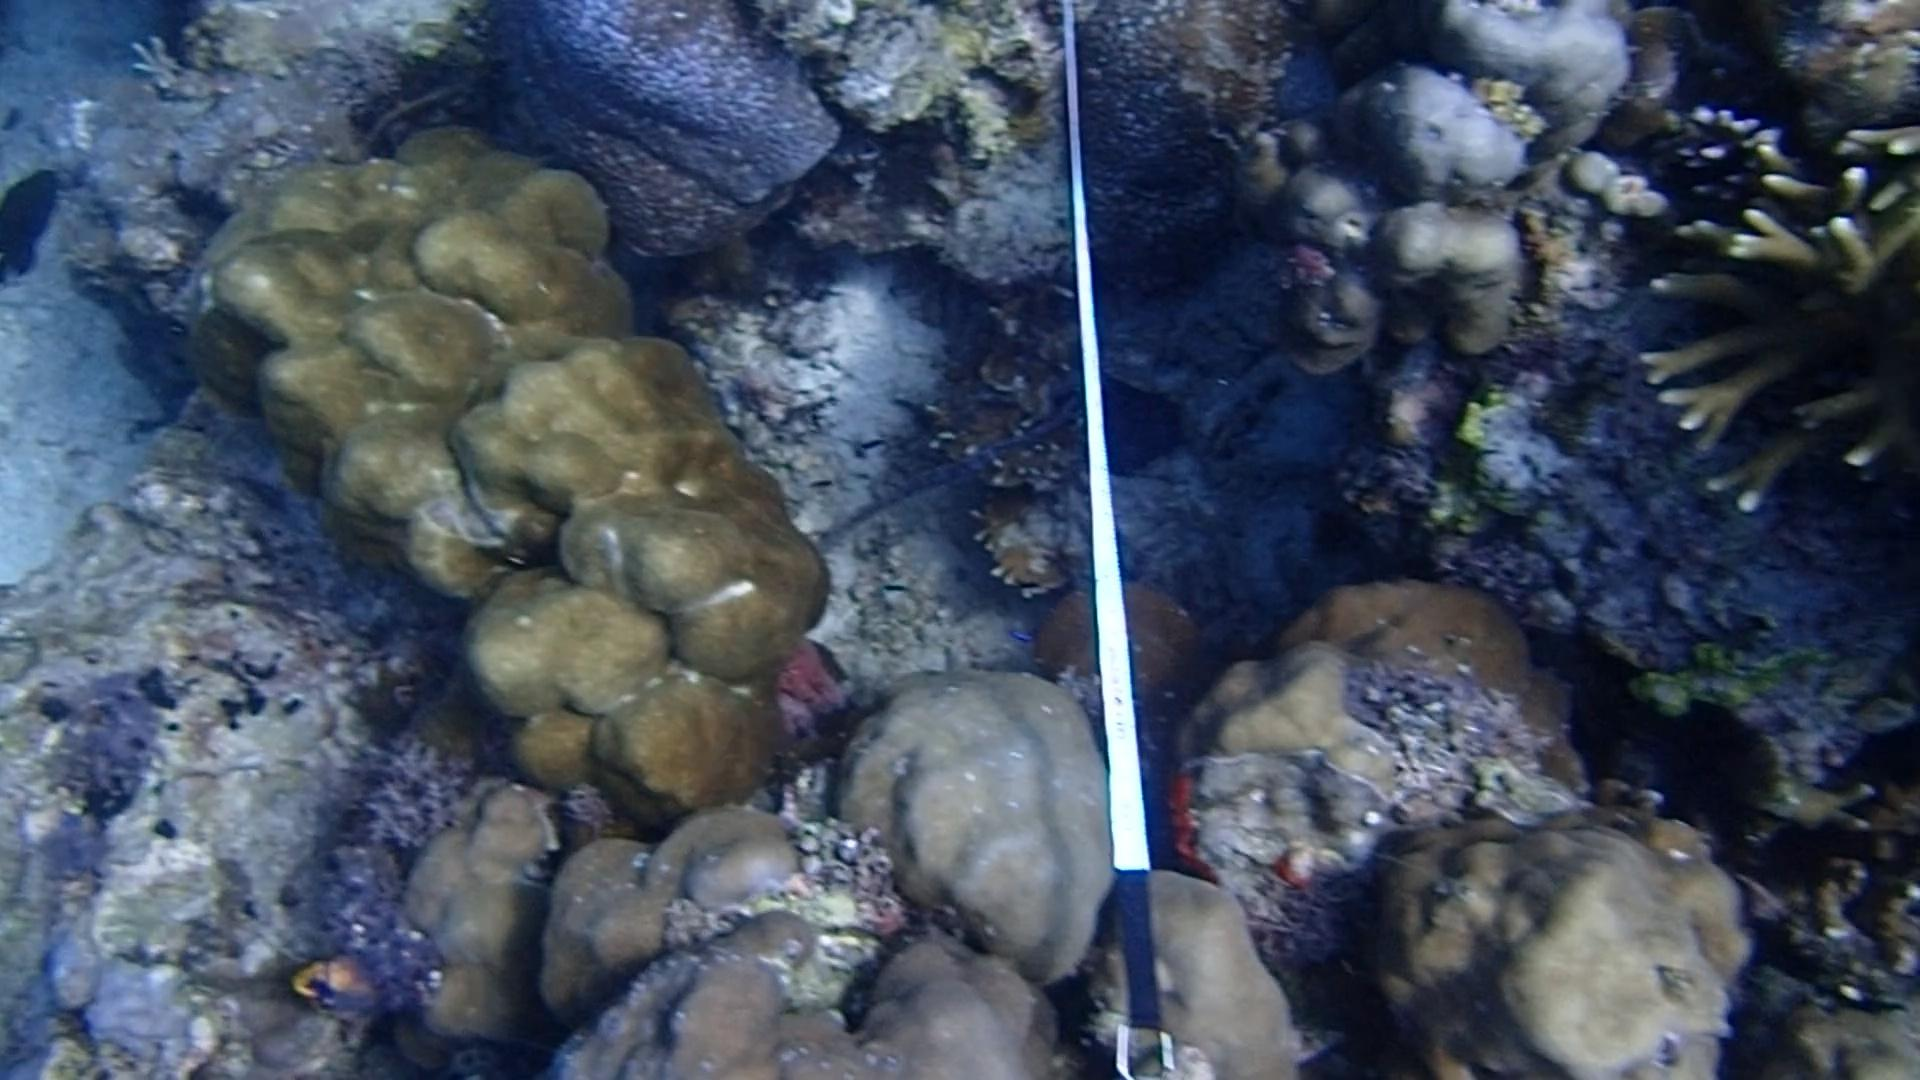Dark Fish: (0, 166, 63, 286)
